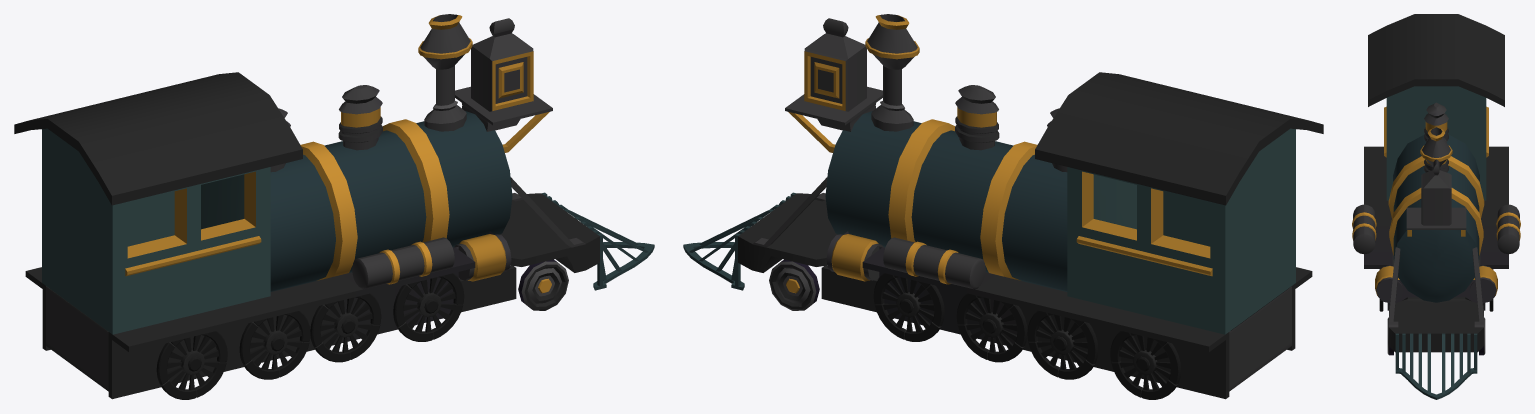
The model's file is TrainEngine.fbx.
The picture shows the model from 3 angles, left to right: view 1: azimuth 30°, elevation 25°; view 2: azimuth 150°, elevation 25°; view 3: azimuth 270°, elevation 25°; orthographic projection. The views are drawn at different scales.
Parts seen in each view (by area): view 1: TrainEngine; view 2: TrainEngine; view 3: TrainEngine.
Boxes of the visible parts, x1,y1,x2,y2 form: TrainEngine: (14, 14, 654, 399); TrainEngine: (683, 14, 1323, 399); TrainEngine: (1352, 14, 1520, 399).
Bounding box in the file's own units: 19.84 × 9.11 × 7.
